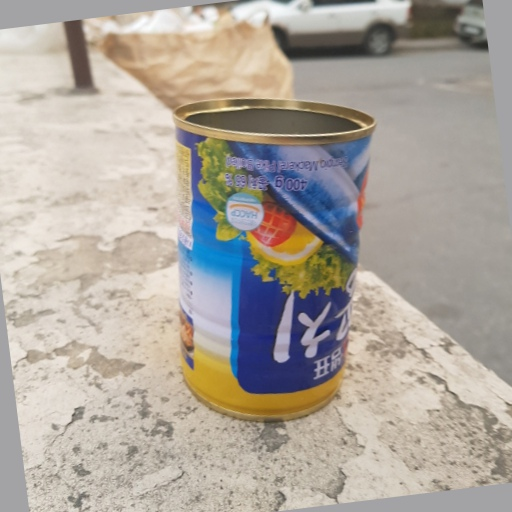Metal_1: (171, 97, 377, 424)
